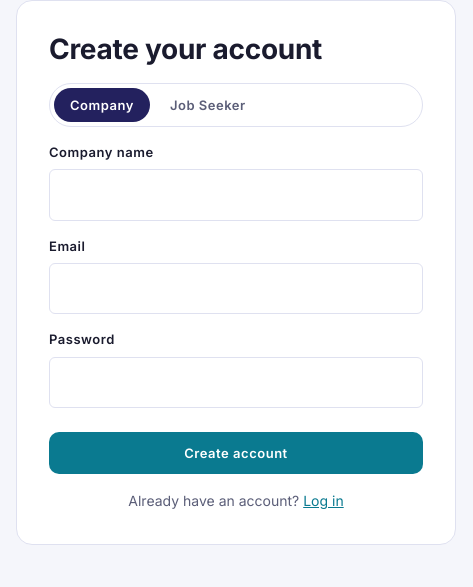
Test case: AuthForm › shows the duplicate-email message under the email field on a 409, keeping name and password
The width and height of the screenshot is (473, 587).
Type "Acme Inc" into the field labelled "Company name" at (236,195), box 49,169 -> 423,221
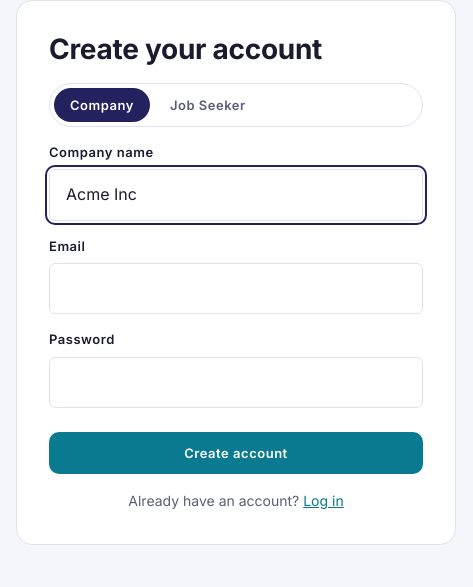
Type "taken@acme.test" into the field labelled "Email" at (236,289), box 49,263 -> 423,314
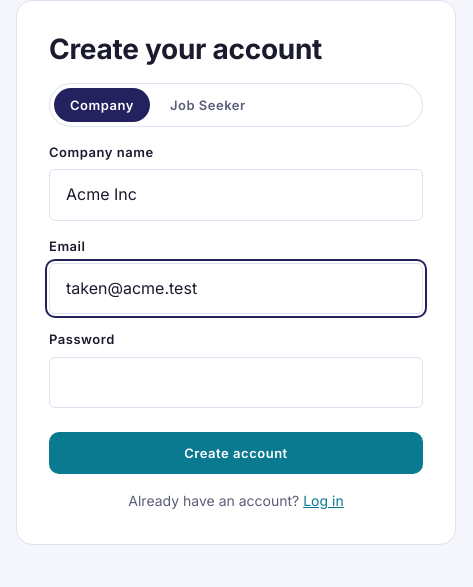
Type "password123" into the password field labelled "Password" at (236,382), box 49,356 -> 423,408
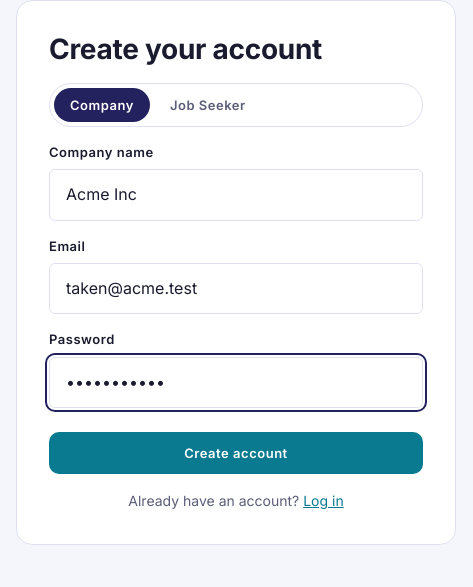
Click the button "Create account" at (236,453), box 49,432 -> 423,474
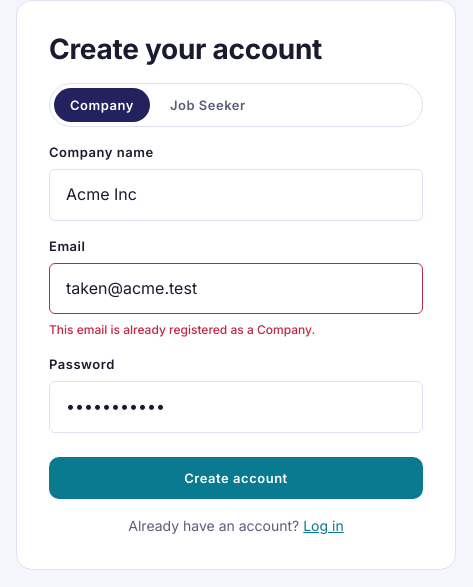
Now the text "This email is already registered as a Company." is shown, box 49,322 -> 315,337
